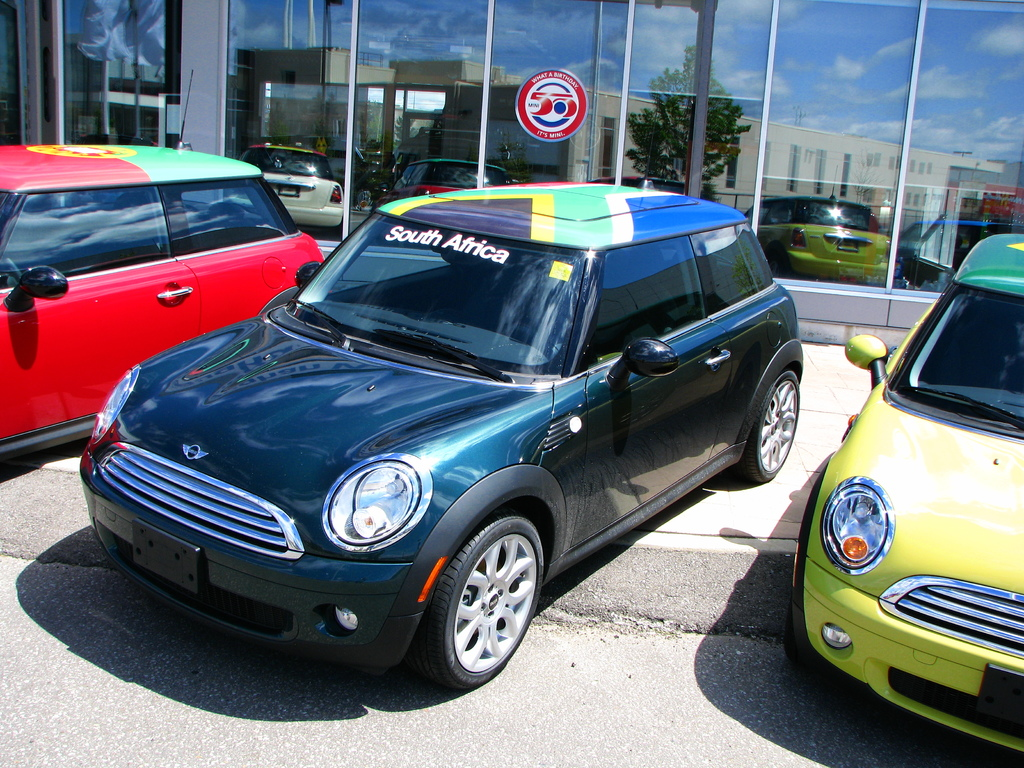Car: (71, 169, 810, 704), (0, 69, 328, 460), (787, 231, 1023, 755)
